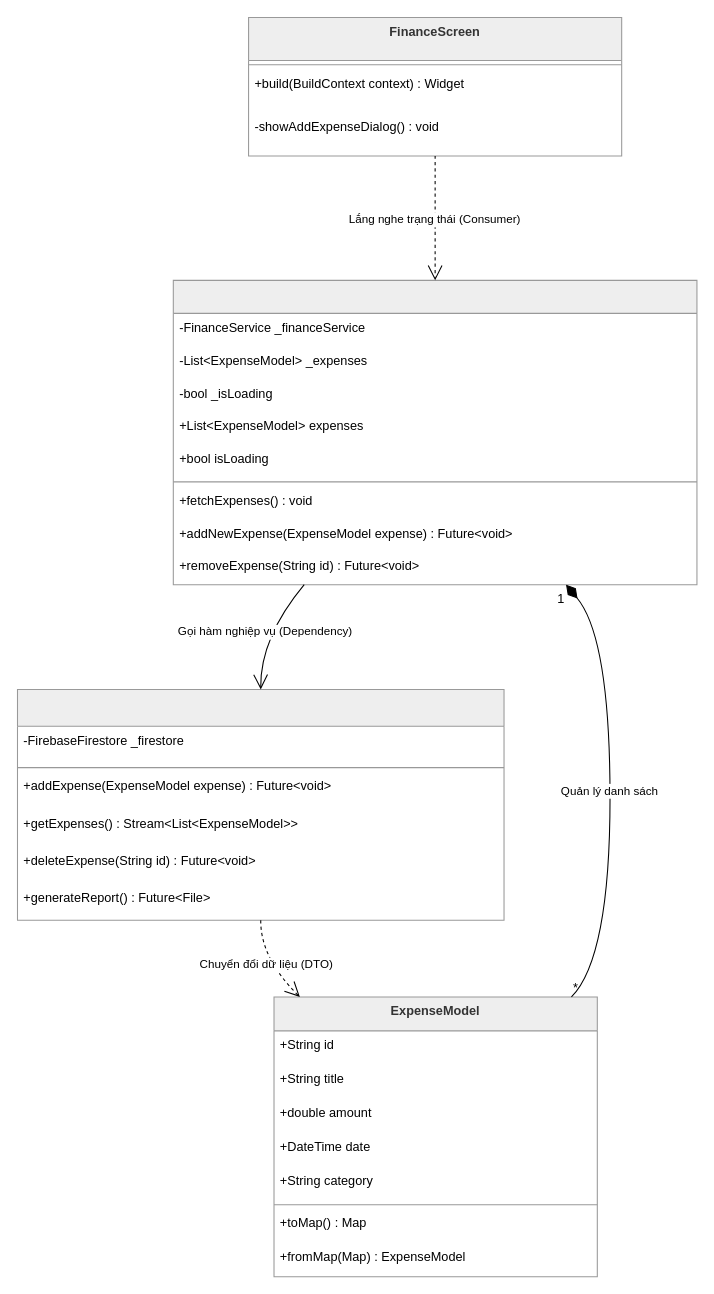
This 714x1294 diagram has some shape labels left out. The box of each missing label's shape, as (x1, y1, x2, y2) in pixels:
FinanceProvider: (172, 279, 697, 585)
FinanceService: (16, 688, 504, 920)
